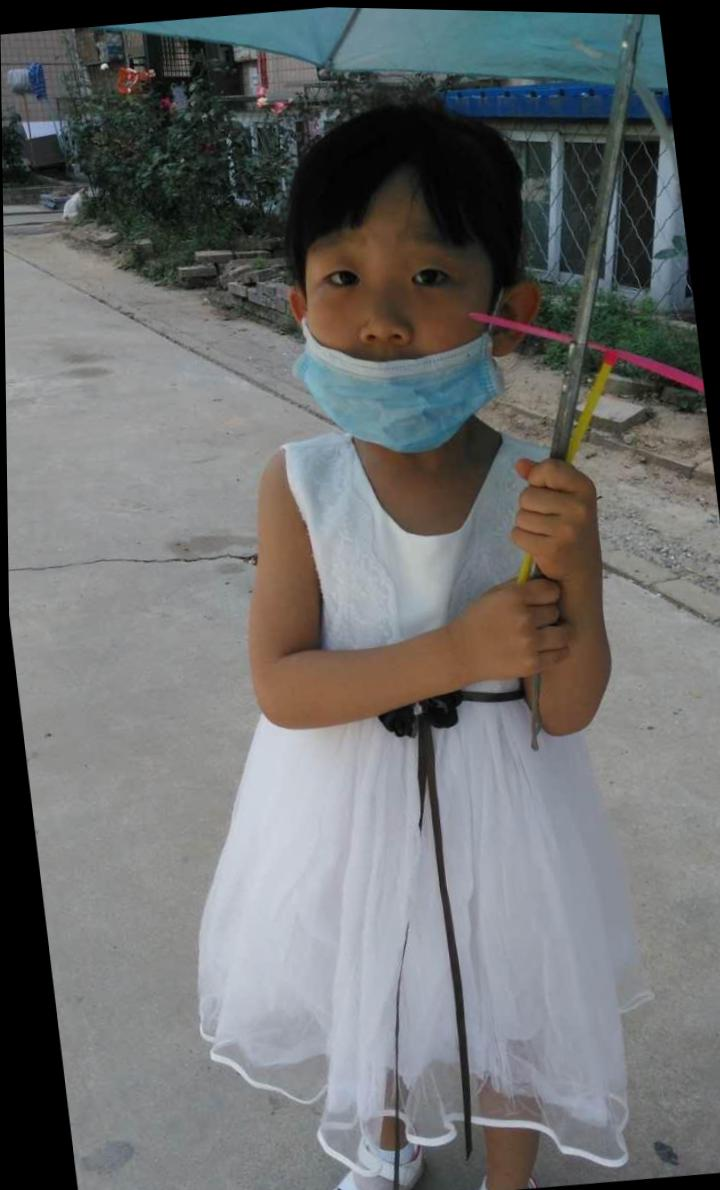WRONG: (284, 211, 510, 465)
